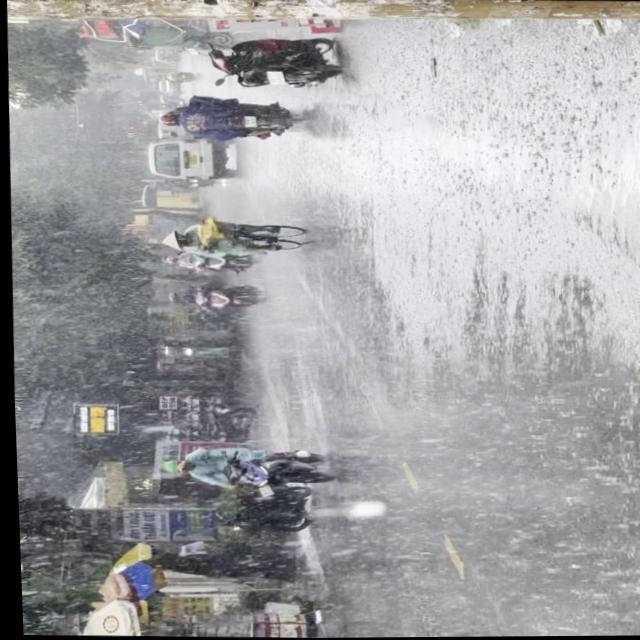helmet: (156, 460, 185, 475), (155, 113, 175, 125)
licenseplate: (152, 443, 338, 495), (152, 96, 303, 144)
nohelmet: (240, 116, 253, 127)
